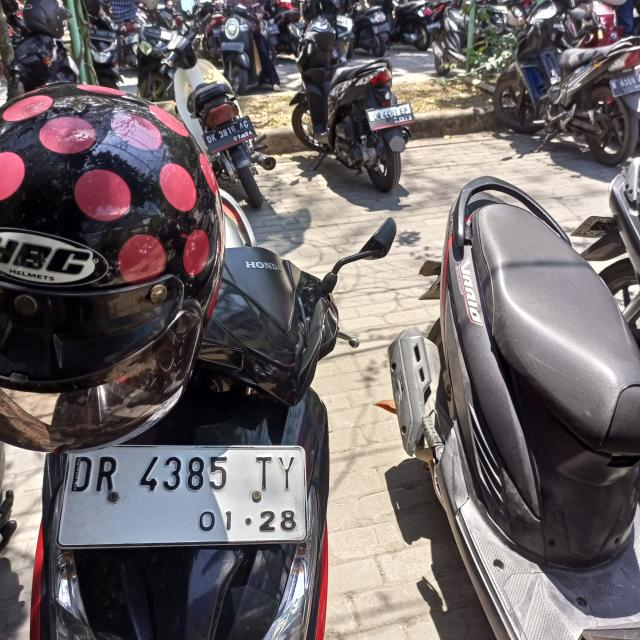plate: (65, 439, 310, 550), (201, 115, 257, 155), (365, 101, 416, 132)
